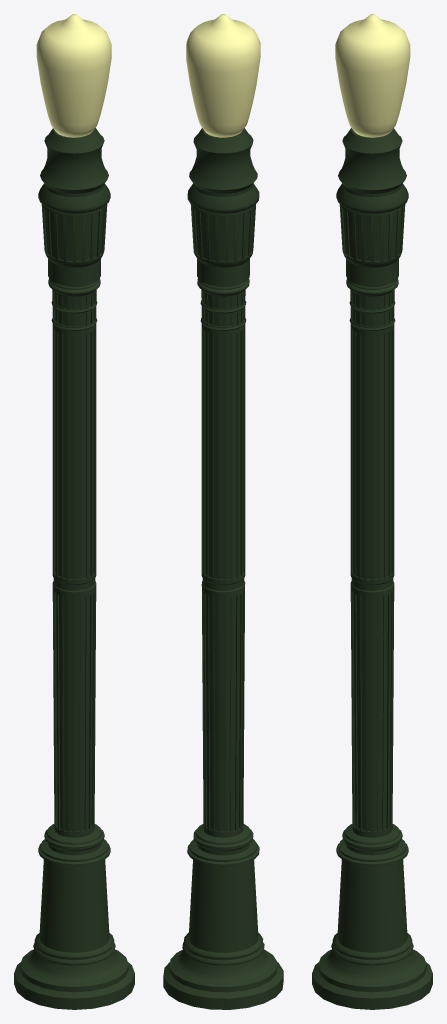
Rendered from lamp.fbx.
The picture shows the model from 3 angles, left to right: view 1: azimuth 90°, elevation 25°; view 2: azimuth 150°, elevation 25°; view 3: azimuth 270°, elevation 25°; orthographic projection.
Parts seen in each view (by area): view 1: metal, light; view 2: metal, light; view 3: metal, light.
Boxes of the visible parts, x1,y1,x2,y2 form: metal: [14, 128, 134, 1009]; light: [36, 14, 111, 137]; metal: [163, 128, 283, 1009]; light: [186, 14, 260, 137]; metal: [312, 128, 432, 1009]; light: [335, 14, 410, 137].
Size of the model in its own units: 200 by 1771 by 200.
